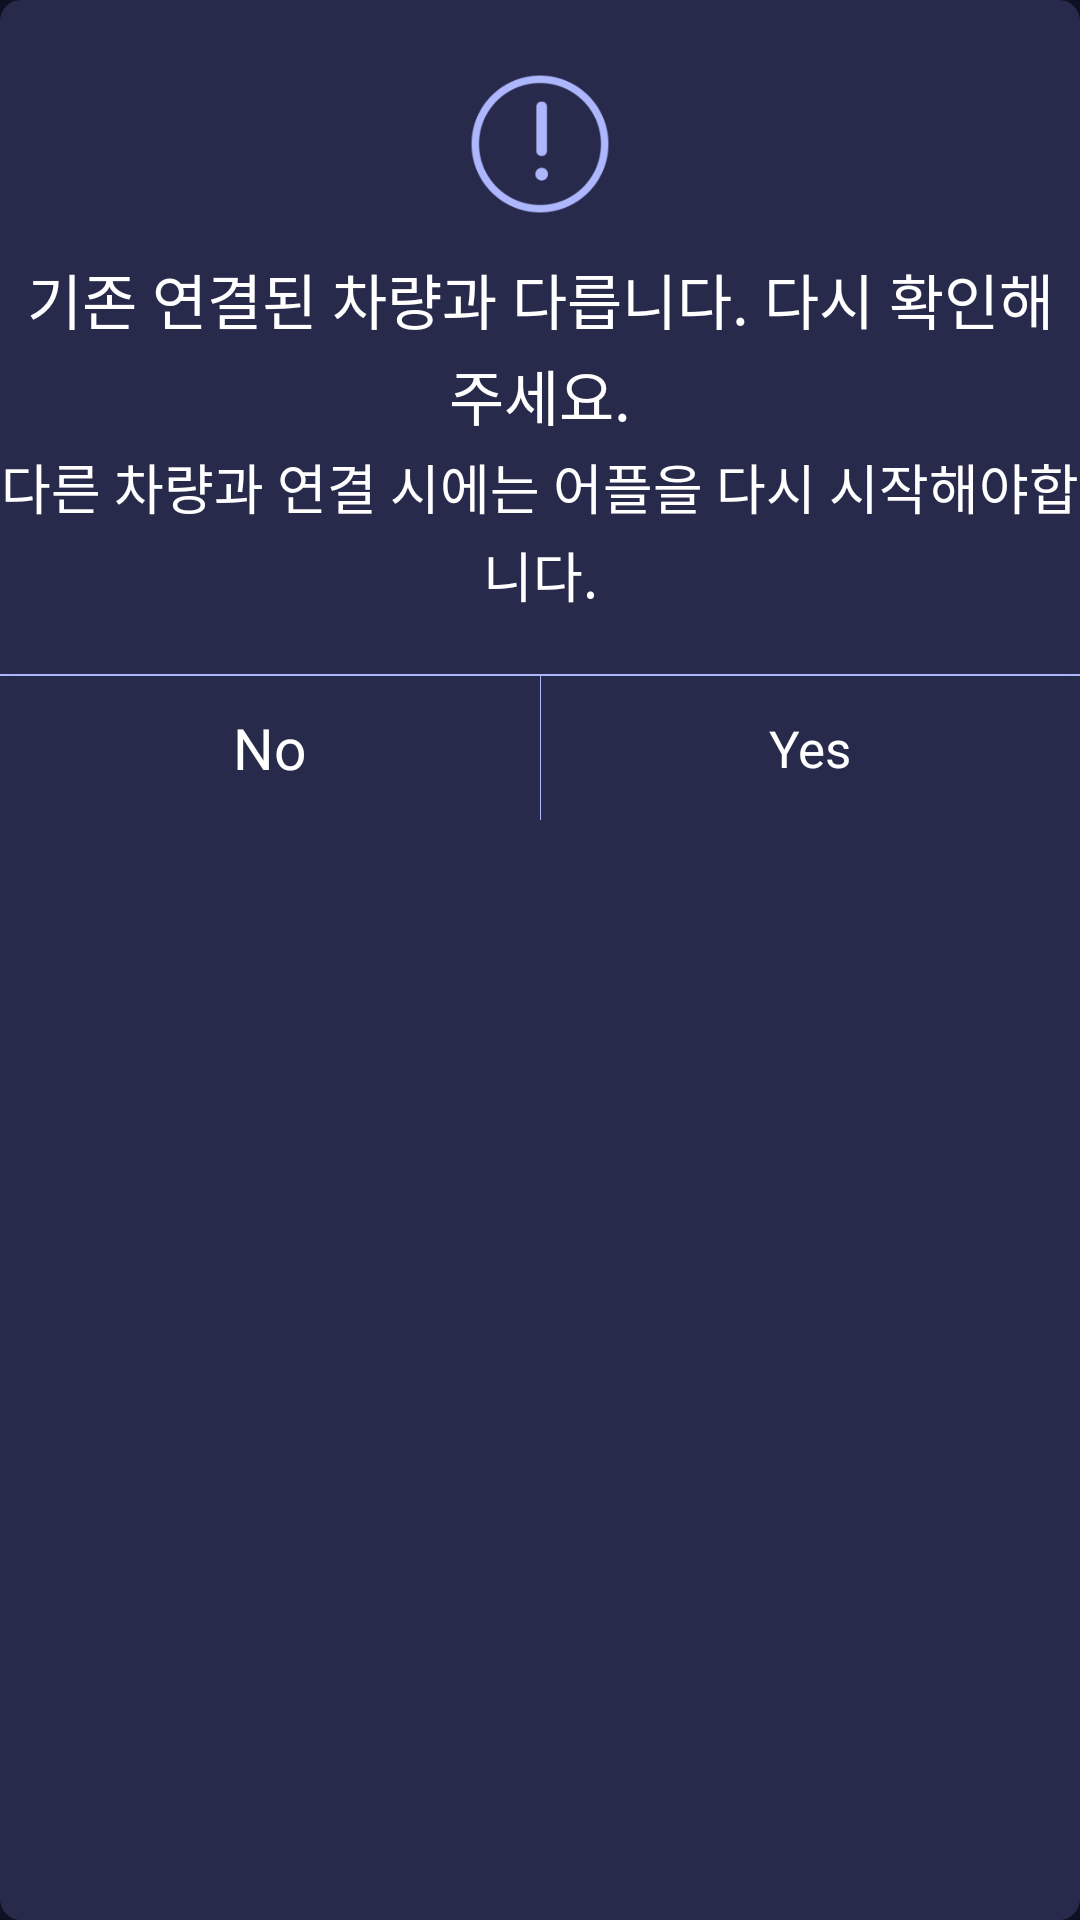

Icon bounding boxes for this 1080 × 1920 phone screenshot, format (x1, y1, x2, y2):
caution: (471, 75, 609, 213)
